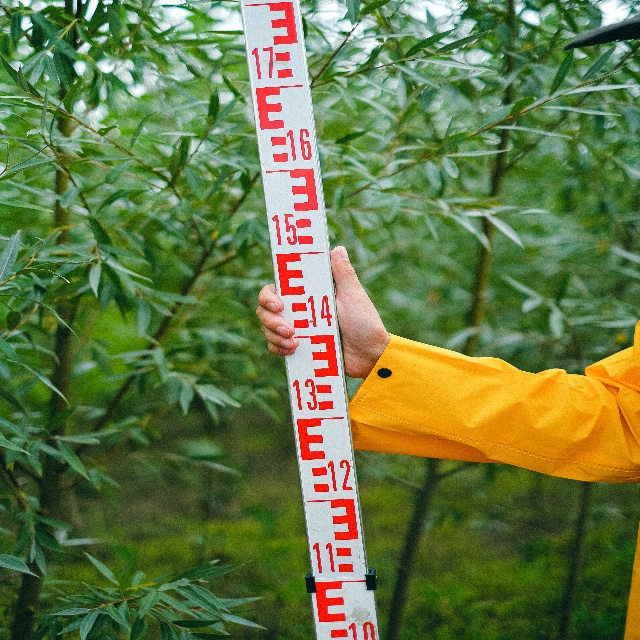Sin_guantes: (256, 247, 392, 381)
